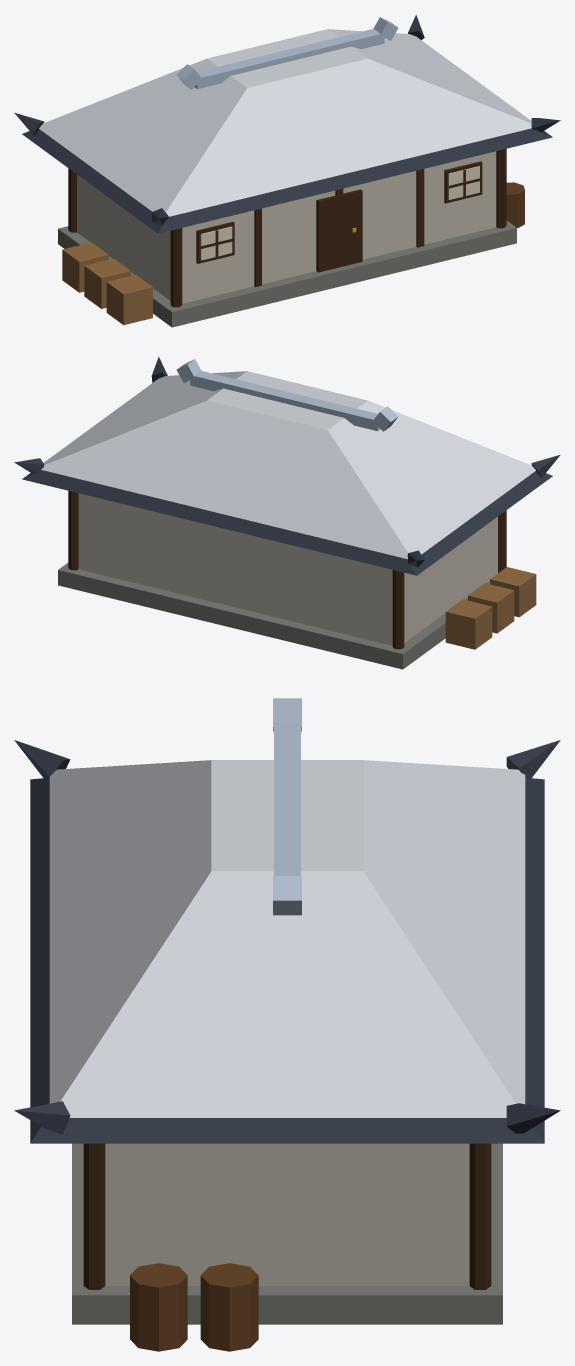
File: SM_GZ_warehouse_frost.fbx
3 views of the same model, one above another, from view 1: azimuth 30°, elevation 25°; view 2: azimuth 150°, elevation 25°; view 3: azimuth 270°, elevation 25° (orthographic). The views are drawn at different scales.
Parts seen in each view (by area): view 1: SM_GZ_warehouse_frost; view 2: SM_GZ_warehouse_frost; view 3: SM_GZ_warehouse_frost.
Part boxes in pixels (x1,y1,x2,y2): SM_GZ_warehouse_frost: (14, 14, 560, 327); SM_GZ_warehouse_frost: (14, 356, 560, 669); SM_GZ_warehouse_frost: (14, 698, 560, 1351).
Bounding box in the file's own units: 1385 × 649 × 850.
